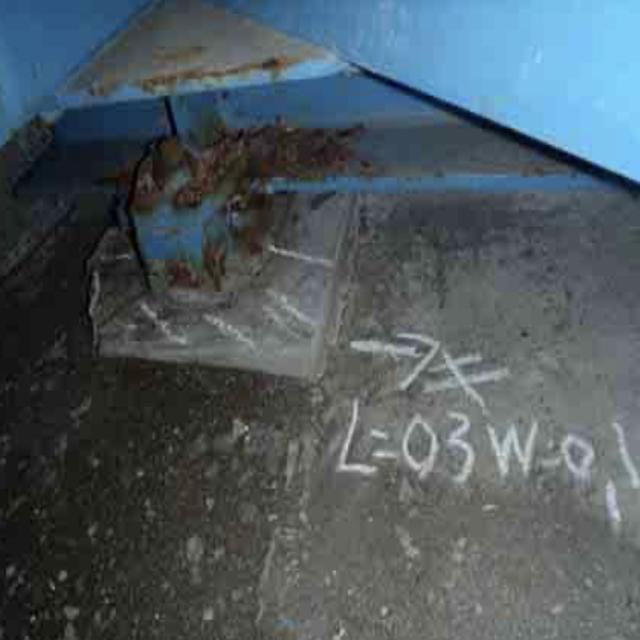corrosion: (68, 57, 362, 294)
